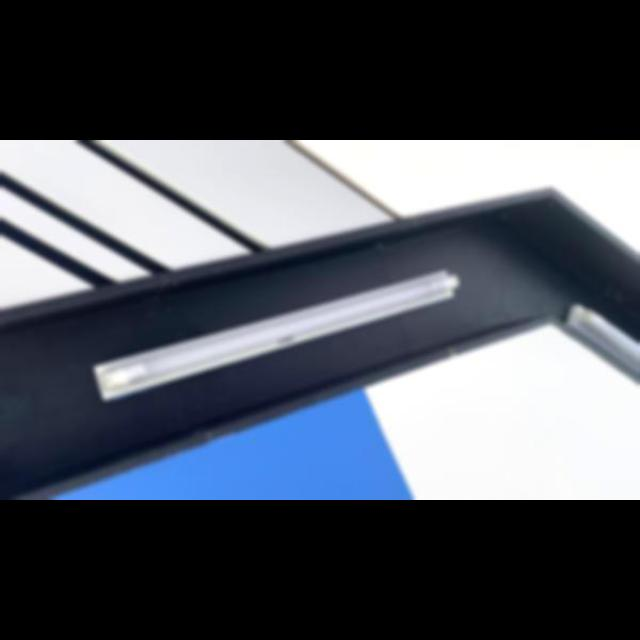Straight-Tube-Fluorescent-Lamp: (87, 253, 467, 412), (556, 281, 640, 399)
